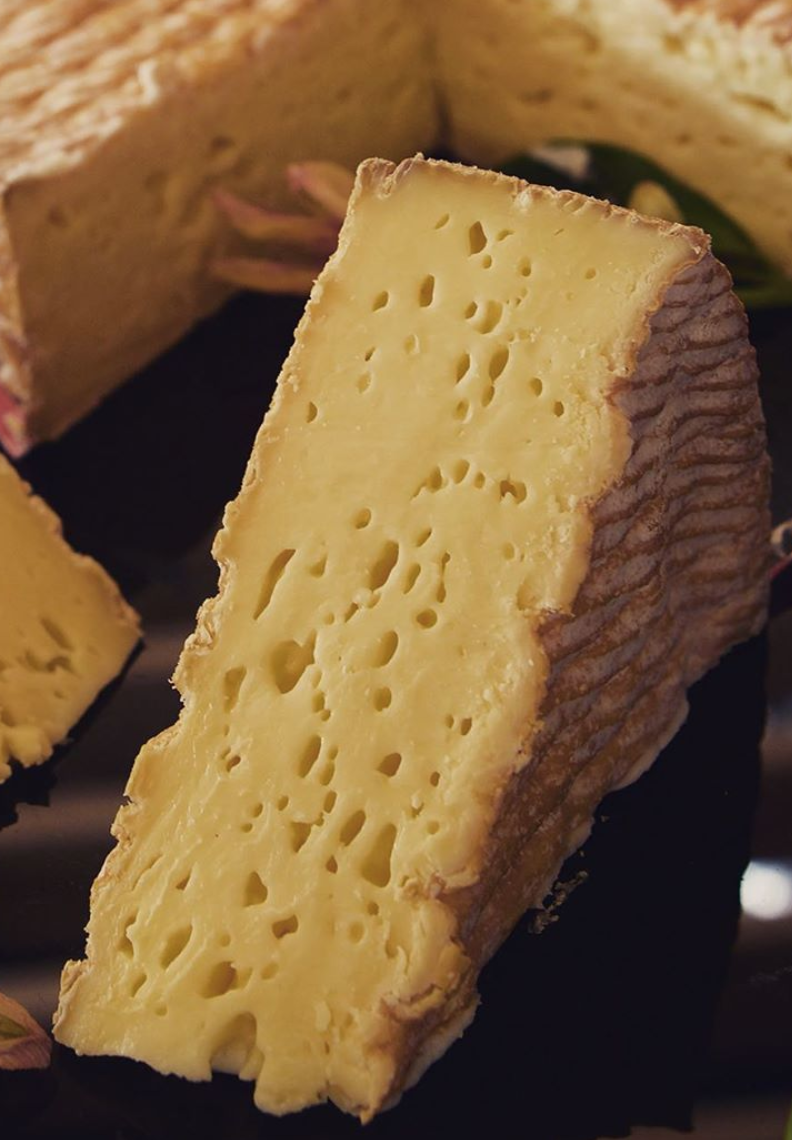camembert: (36, 160, 786, 1127), (1, 1, 792, 456)
